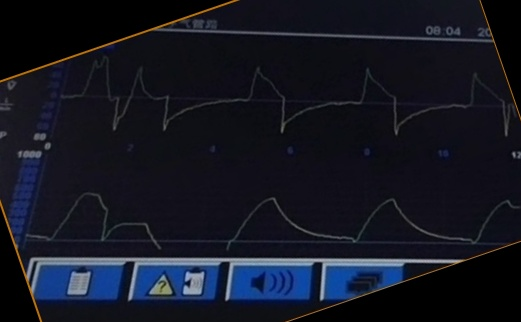Double_Triggering Flow: (60, 51, 488, 137)
Double_Triggering Volume: (28, 187, 496, 249)
